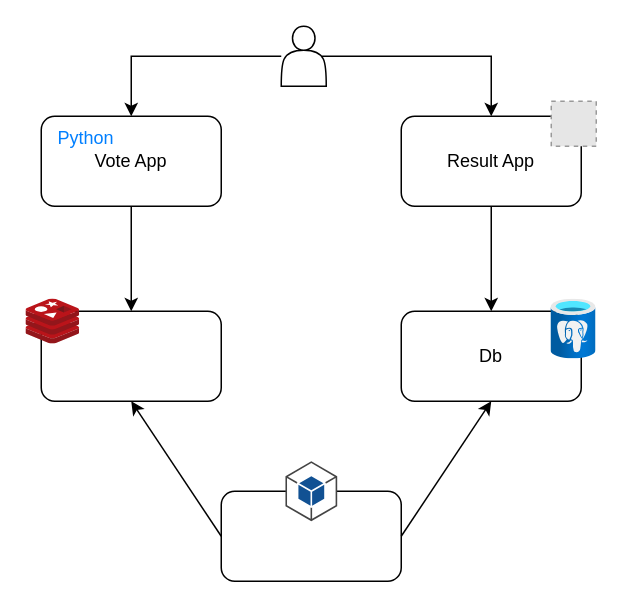
The diagram is 623 pixels wide and 608 high, and some of its shapes have lost their labels. Grey dashed boxes stand in for pictures. Here are the shapes that lost their labels. From the top down, the box of each, then its label:
(40, 310, 221, 401): Redis
(220, 490, 401, 581): Worker
